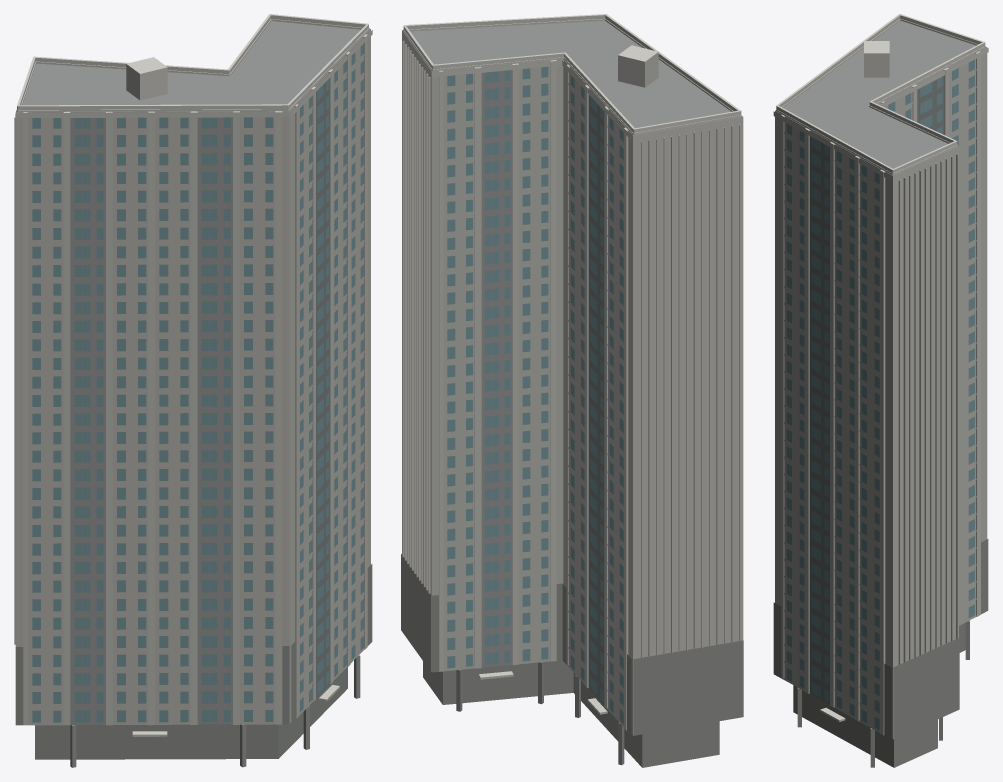
Rendered from maple-xi-107.glb.
3 renders of one model, left to right at view 1: azimuth 30°, elevation 25°; view 2: azimuth 150°, elevation 25°; view 3: azimuth 270°, elevation 25°, orthographic. The views are drawn at different scales.
Parts seen in each view (by area): view 1: maple-xi-107; view 2: maple-xi-107; view 3: maple-xi-107.
Part boxes in pixels (box(x1,y1,x2,y2)): maple-xi-107: box(14, 14, 372, 767); maple-xi-107: box(401, 14, 743, 767); maple-xi-107: box(773, 14, 988, 767).
Bounding box in the file's own units: 61.43 × 113 × 35.2.
